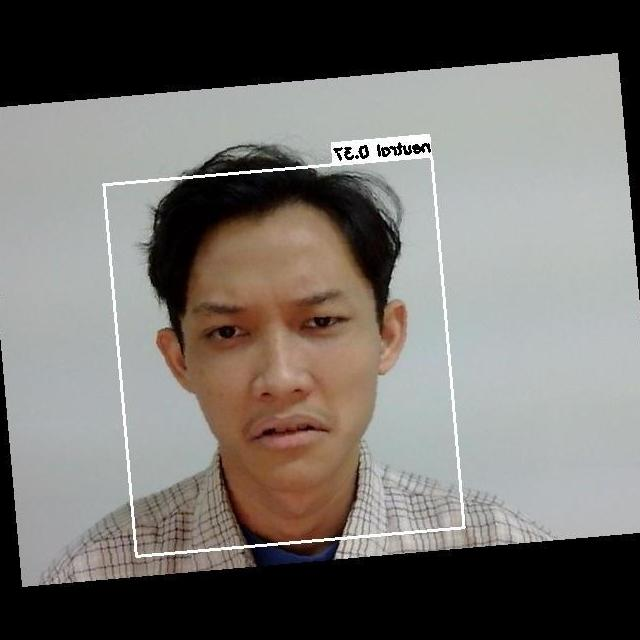Sad: (177, 270, 393, 473)
